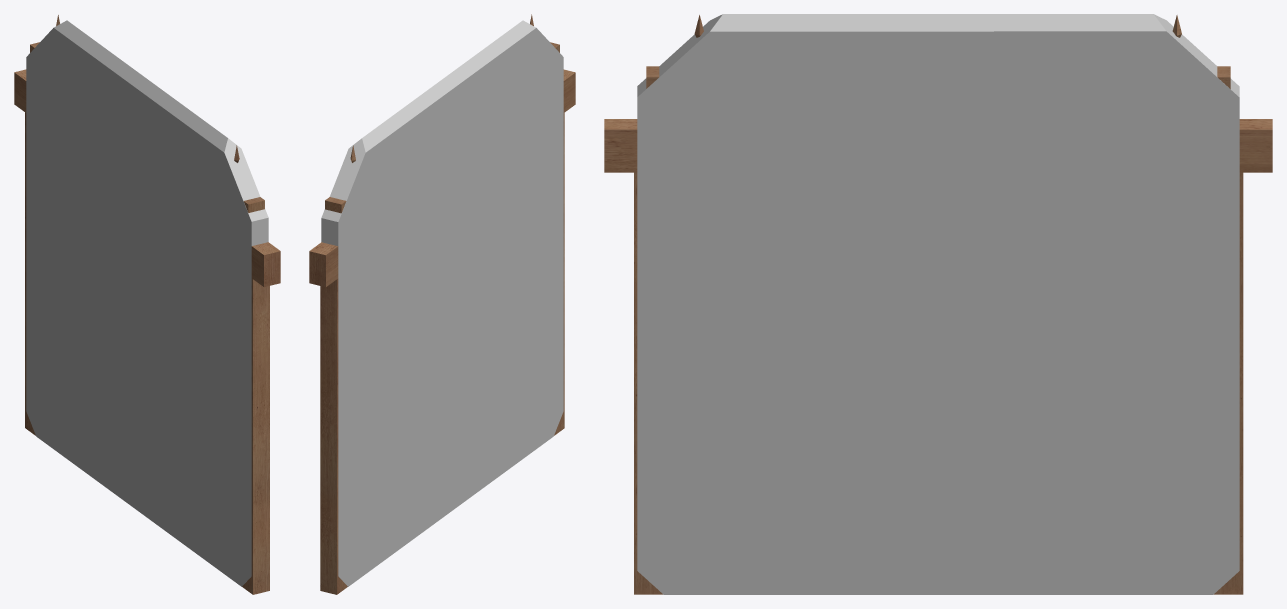
File: SM_HBJ_Doorframe.fbx
The picture shows the model from 3 angles, left to right: view 1: azimuth 30°, elevation 25°; view 2: azimuth 150°, elevation 25°; view 3: azimuth 270°, elevation 25°; orthographic projection. The views are drawn at different scales.
Visible parts, largest first — view 1: SM_HBJ_Doorframe_ConvexHulls, SM_HBJ_Doorframe; view 2: SM_HBJ_Doorframe_ConvexHulls, SM_HBJ_Doorframe; view 3: SM_HBJ_Doorframe_ConvexHulls, SM_HBJ_Doorframe.
Boxes of the visible parts, <box> form: SM_HBJ_Doorframe_ConvexHulls: <box>26,20,268,586</box>; SM_HBJ_Doorframe: <box>14,15,280,594</box>; SM_HBJ_Doorframe_ConvexHulls: <box>321,20,563,586</box>; SM_HBJ_Doorframe: <box>309,14,575,594</box>; SM_HBJ_Doorframe_ConvexHulls: <box>637,14,1239,594</box>; SM_HBJ_Doorframe: <box>604,15,1272,594</box>.
Size of the model in its own units: 12.25 by 310 by 295.
2 materials, 1 textured.
